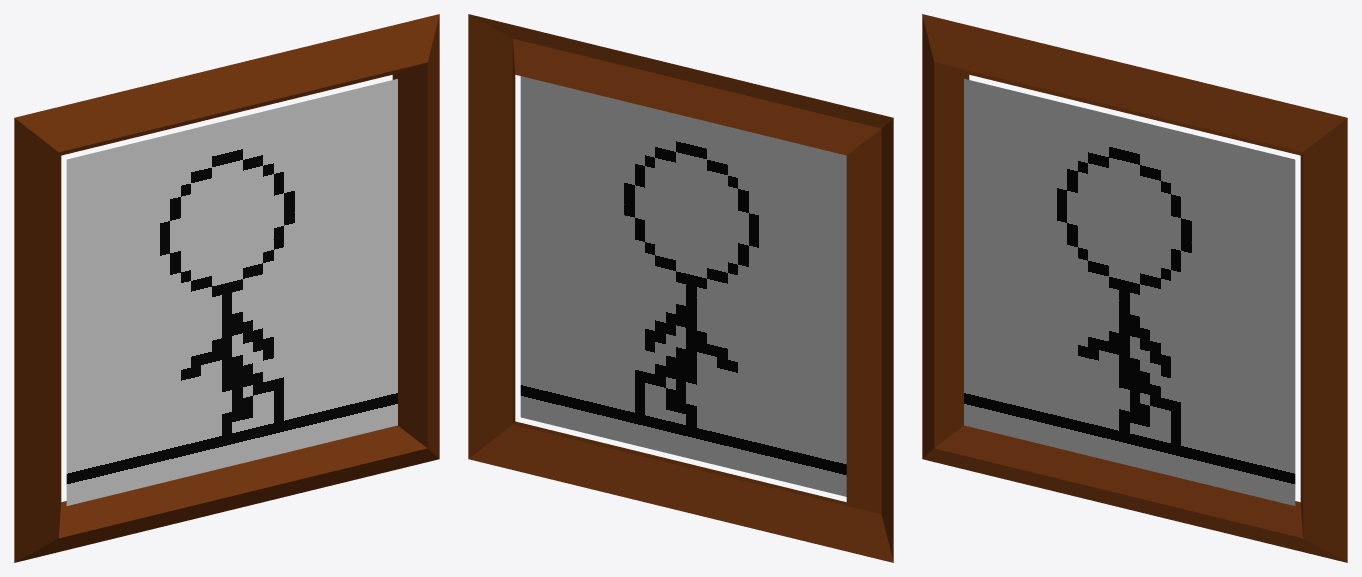
File: walkPainting2.glb
The picture shows the model from 3 angles, left to right: view 1: azimuth 30°, elevation 25°; view 2: azimuth 150°, elevation 25°; view 3: azimuth 330°, elevation 25°; orthographic projection.
Parts seen in each view (by area): view 1: Canvas.001, Frame.004; view 2: Canvas.001, Frame.004; view 3: Canvas.001, Frame.004.
Boxes of the visible parts, box(x1,y1,x2,y2) form: Canvas.001: box(66, 79, 397, 505); Frame.004: box(14, 14, 439, 562); Canvas.001: box(520, 76, 846, 496); Frame.004: box(468, 14, 893, 562); Canvas.001: box(964, 79, 1295, 505); Frame.004: box(922, 14, 1347, 562).
Size of the model in its own units: 1.28 by 1.28 by 0.0849.
Materials: 2 (1 with a texture image).
